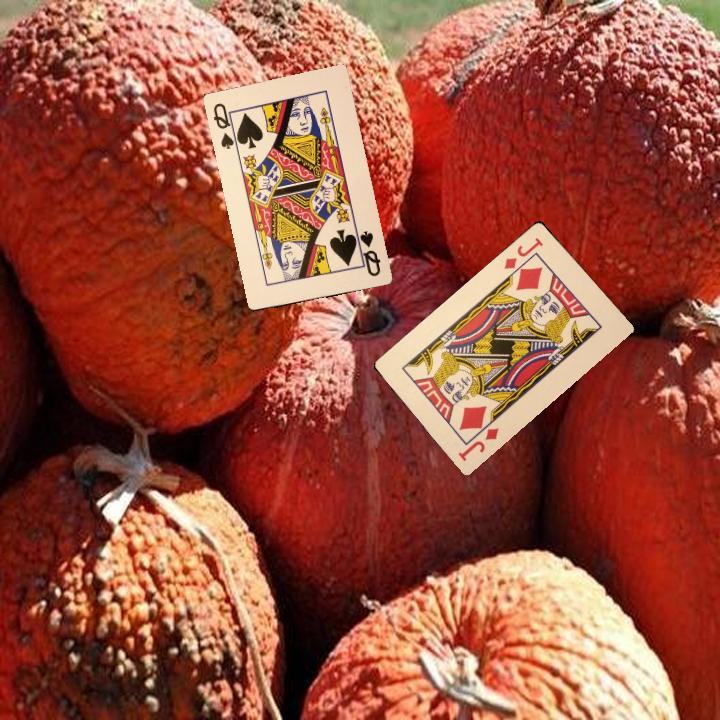Jd: (454, 415, 501, 464), (500, 233, 546, 272)
Qs: (209, 99, 242, 152), (351, 226, 383, 279)
